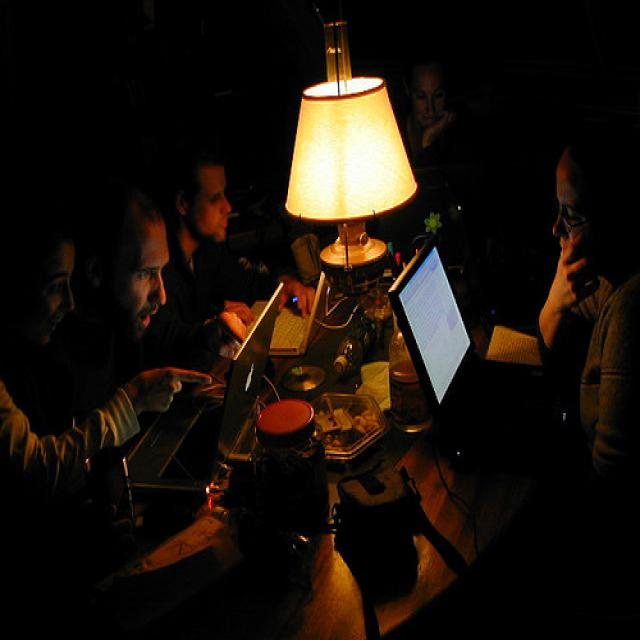Cup: (82, 445, 153, 561)
People: (0, 342, 165, 559), (547, 134, 640, 460), (409, 39, 514, 296), (105, 189, 176, 415), (32, 212, 104, 387), (193, 130, 252, 327)
Table: (3, 267, 572, 640)
